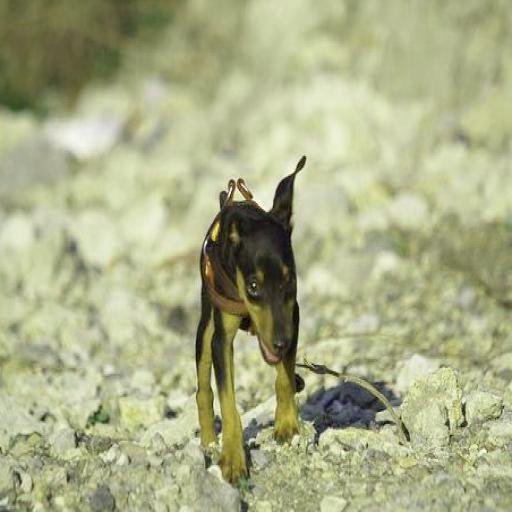dog_face: (216, 157, 308, 376)
